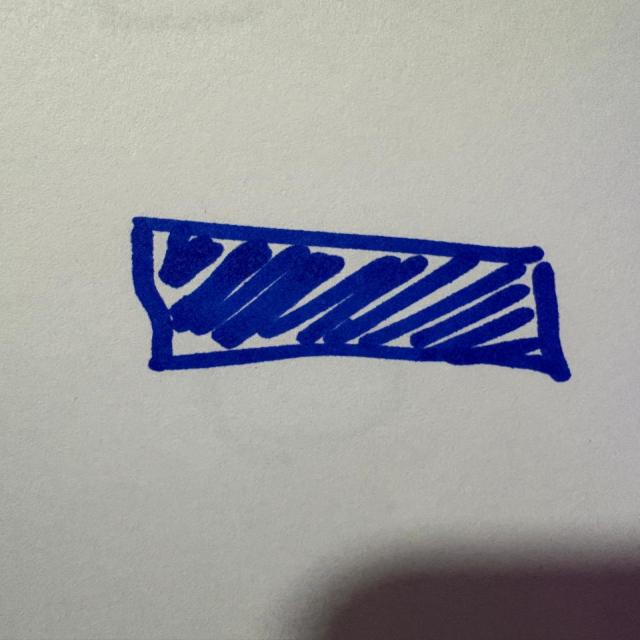Rectangle: (126, 212, 586, 389)
